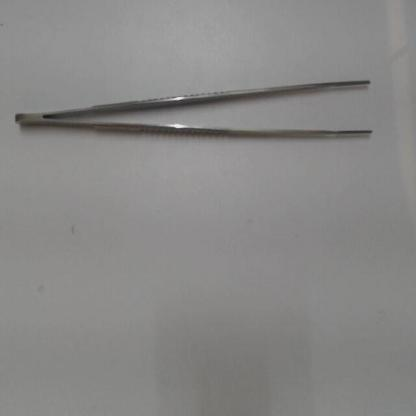DeBakey Dissector: (9, 69, 384, 152)
